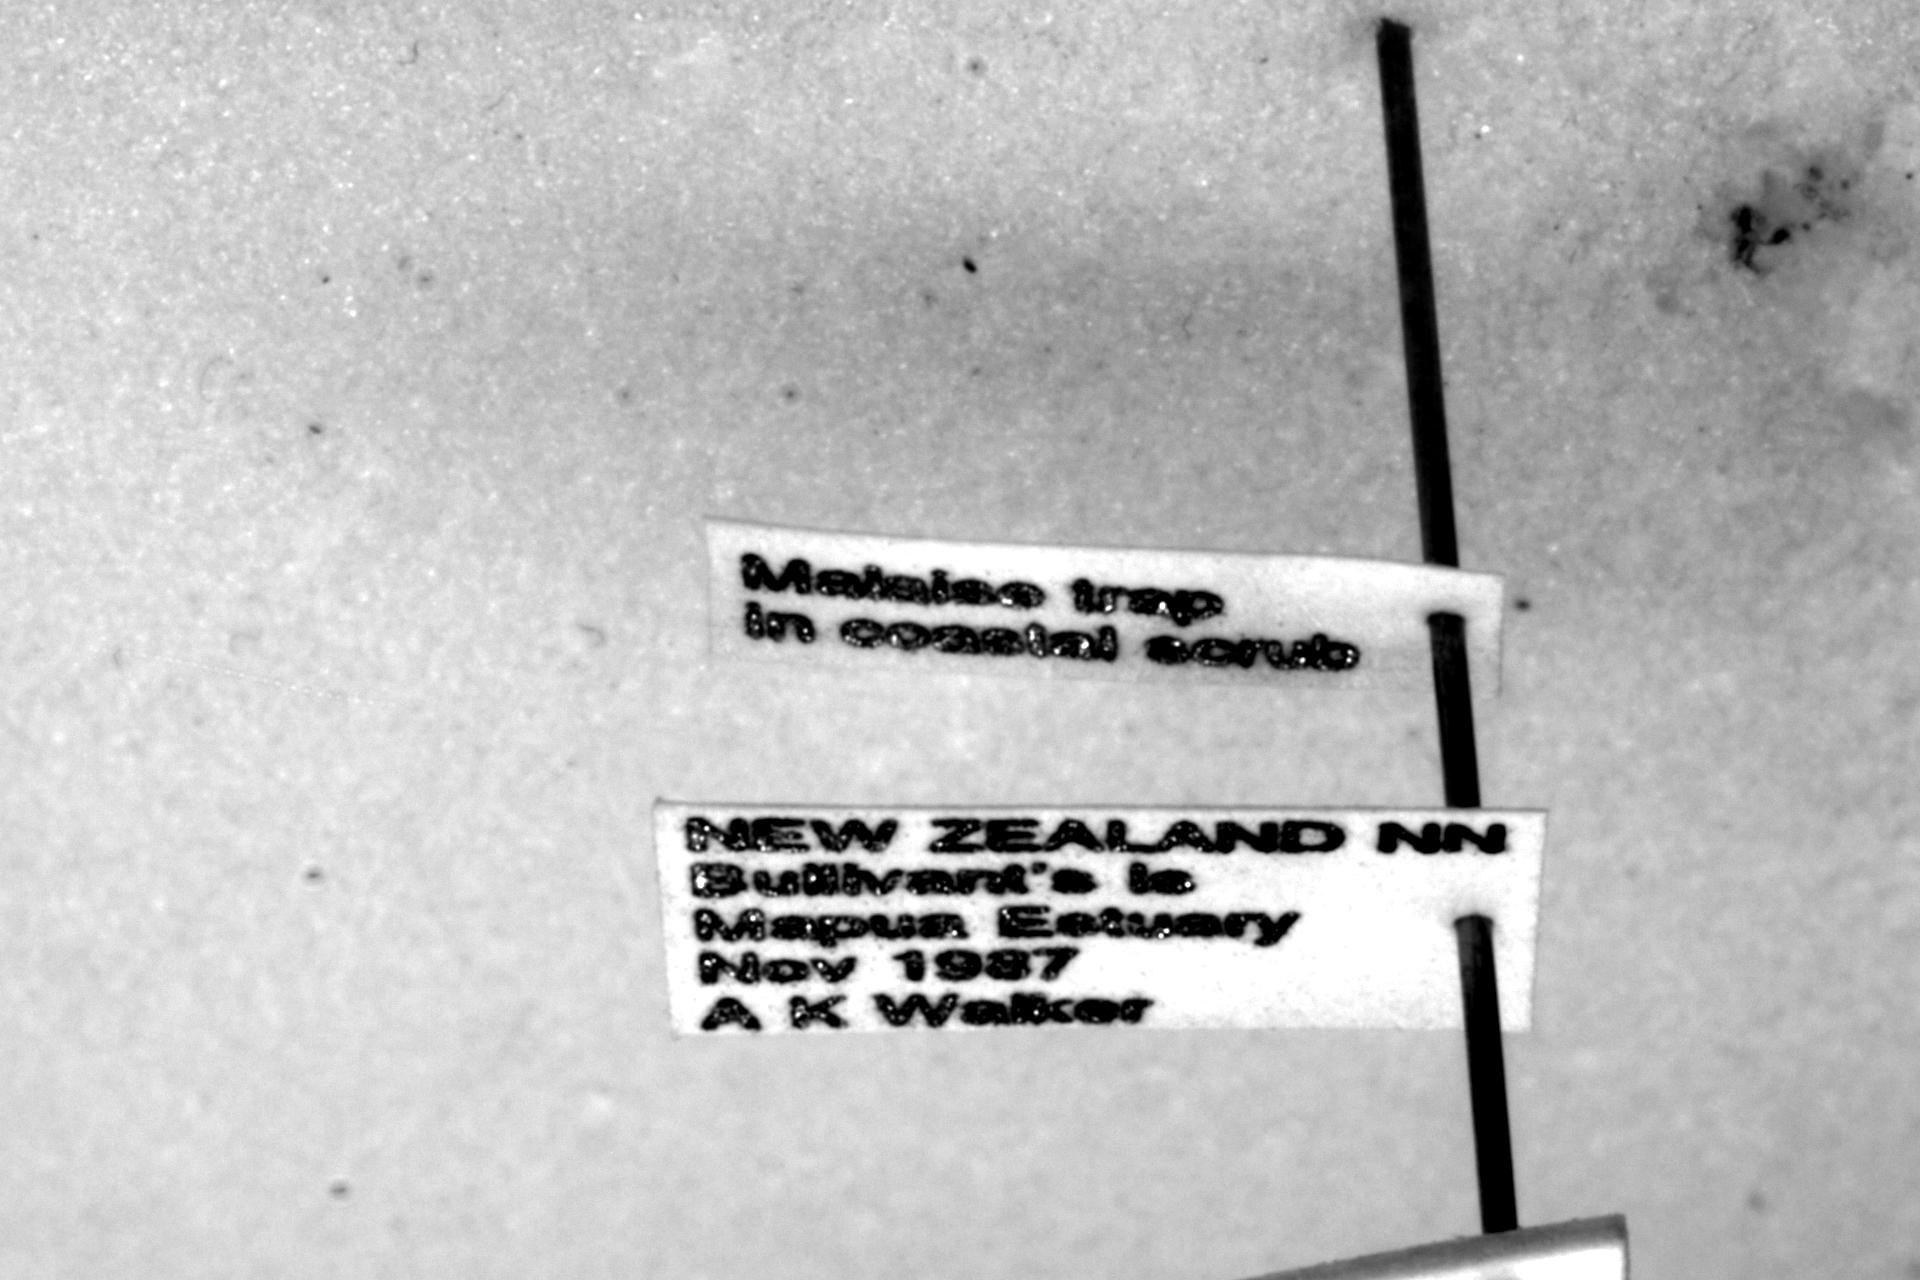typed_label: (656, 803, 1546, 1031), (709, 521, 1504, 697)
